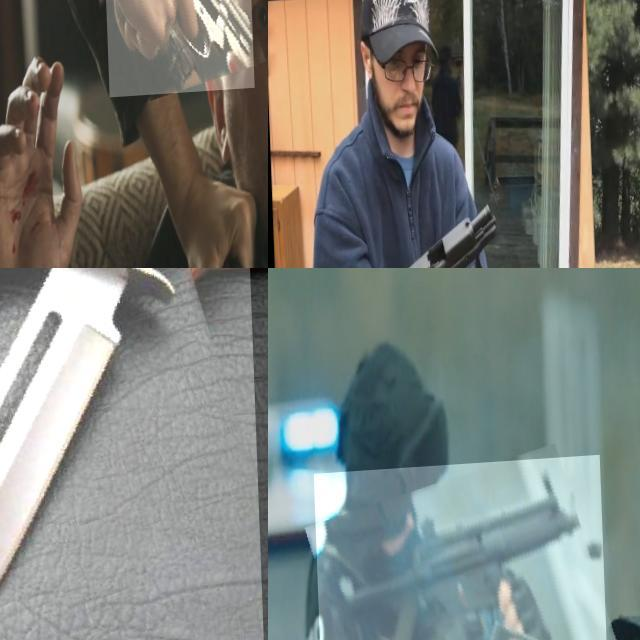-: (0, 268, 267, 640)
gun-knife-thesis - v11 Yolov5 augmented: (312, 462, 604, 640), (100, 0, 252, 112), (368, 193, 503, 268), (322, 0, 348, 18)
